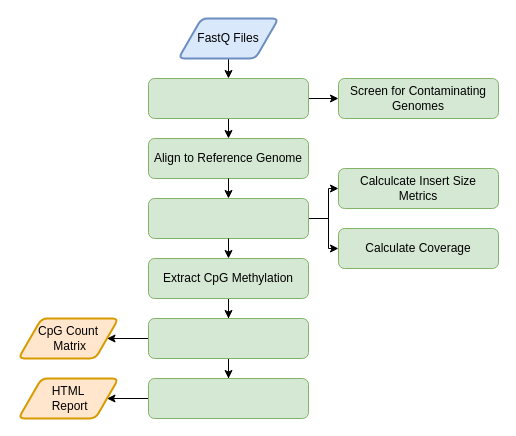
This 516x436 diagram has some shape labels left out. Here are the shapes that lost their labels. From the top down, the centre of each, then its label:
At (x=228, y=98): "Trim Adapters and Methylation Bias".
At (x=228, y=218): "Remove PCR Duplicates".
At (x=228, y=338): "Merge Symmetric CpG Sites".
At (x=228, y=398): "Summarize Quality Control and Quality Analysis Metrics".
